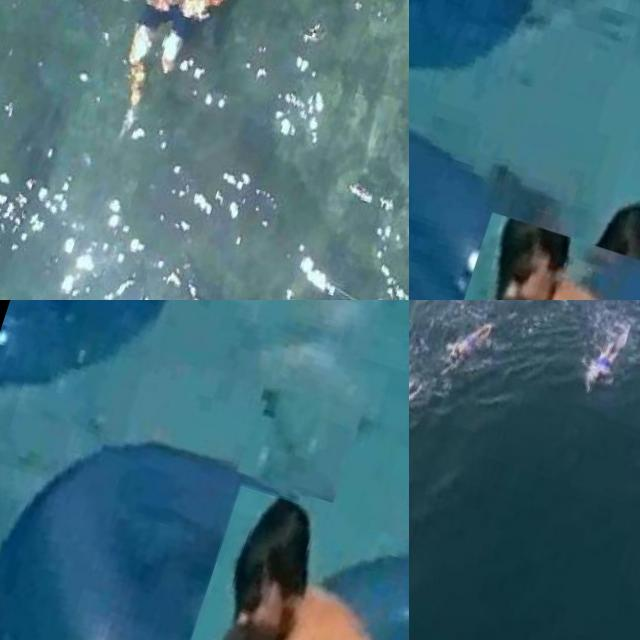drowning: (236, 382, 361, 504), (510, 147, 604, 235)
swimming: (167, 483, 409, 640), (74, 0, 253, 127), (447, 211, 640, 300), (546, 183, 640, 300), (440, 312, 500, 384), (577, 325, 633, 402), (409, 361, 429, 464)
